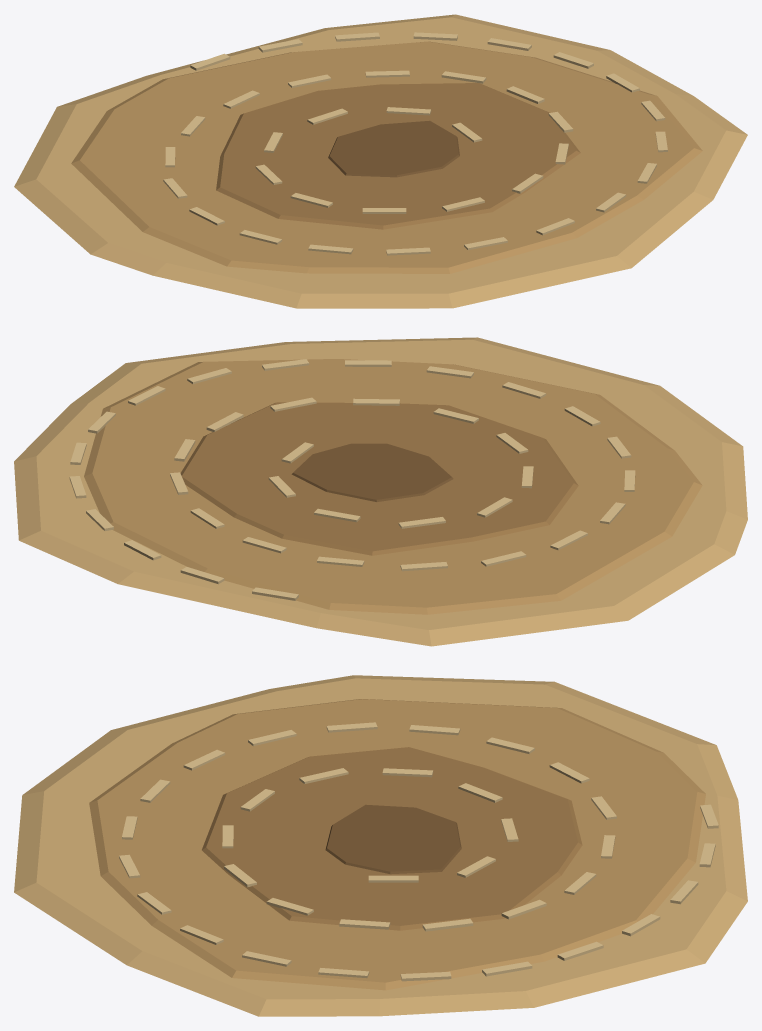
File: Quicksand.fbx
The picture shows the model from 3 angles, top to bottom: view 1: azimuth 30°, elevation 25°; view 2: azimuth 150°, elevation 25°; view 3: azimuth 270°, elevation 25°; orthographic projection. The views are drawn at different scales.
Visible parts, largest first — view 1: Sand, Rim, Inner, Ripples, Core; view 2: Sand, Rim, Inner, Ripples, Core; view 3: Sand, Rim, Inner, Ripples, Core.
Part boxes in pixels (x1=…): Sand: x1=71, y1=41, x2=702, y2=273; Rim: x1=14, y1=14, x2=747, y2=308; Inner: x1=216, y1=83, x2=580, y2=229; Ripples: x1=163, y1=32, x2=667, y2=255; Core: x1=328, y1=120, x2=459, y2=177; Sand: x1=84, y1=359, x2=702, y2=614; Rim: x1=14, y1=337, x2=747, y2=646; Inner: x1=180, y1=402, x2=578, y2=555; Ripples: x1=69, y1=359, x2=635, y2=600; Core: x1=291, y1=443, x2=453, y2=501; Sand: x1=89, y1=699, x2=705, y2=990; Rim: x1=14, y1=675, x2=747, y2=1016; Inner: x1=202, y1=747, x2=582, y2=930; Ripples: x1=119, y1=722, x2=718, y2=981; Core: x1=325, y1=804, x2=461, y2=874.
Size of the model in its own units: 8.12 by 0.175 by 7.37.
